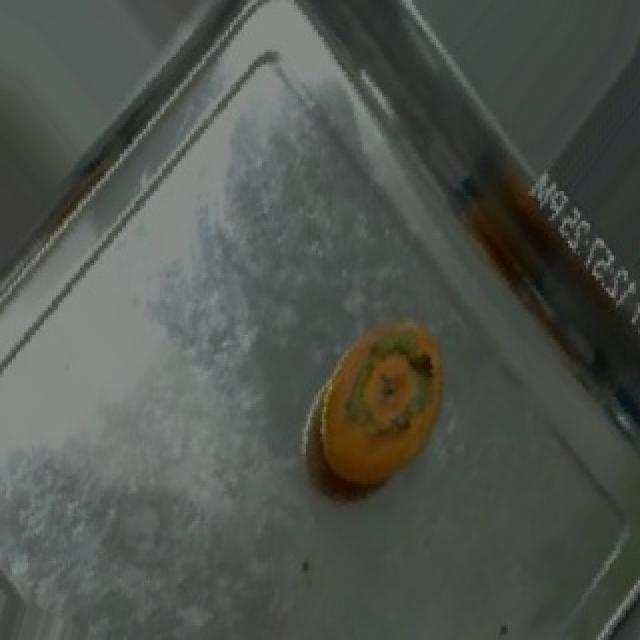Fruit: (290, 297, 468, 514)
